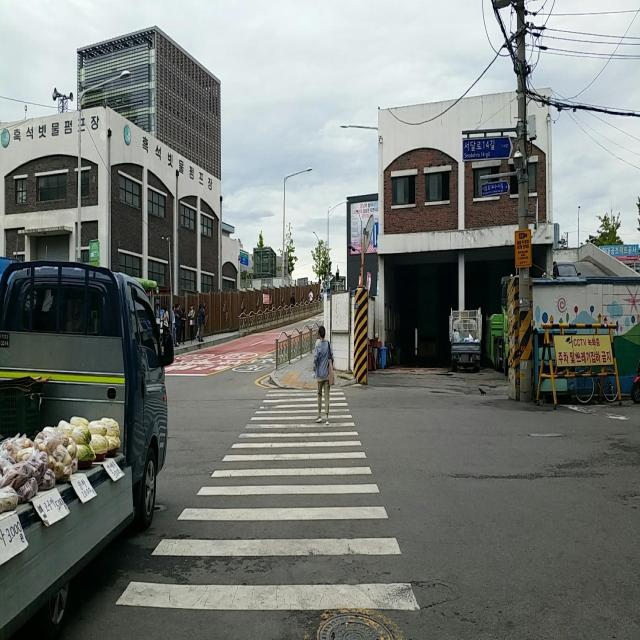횡단보도: (116, 388, 422, 614)
